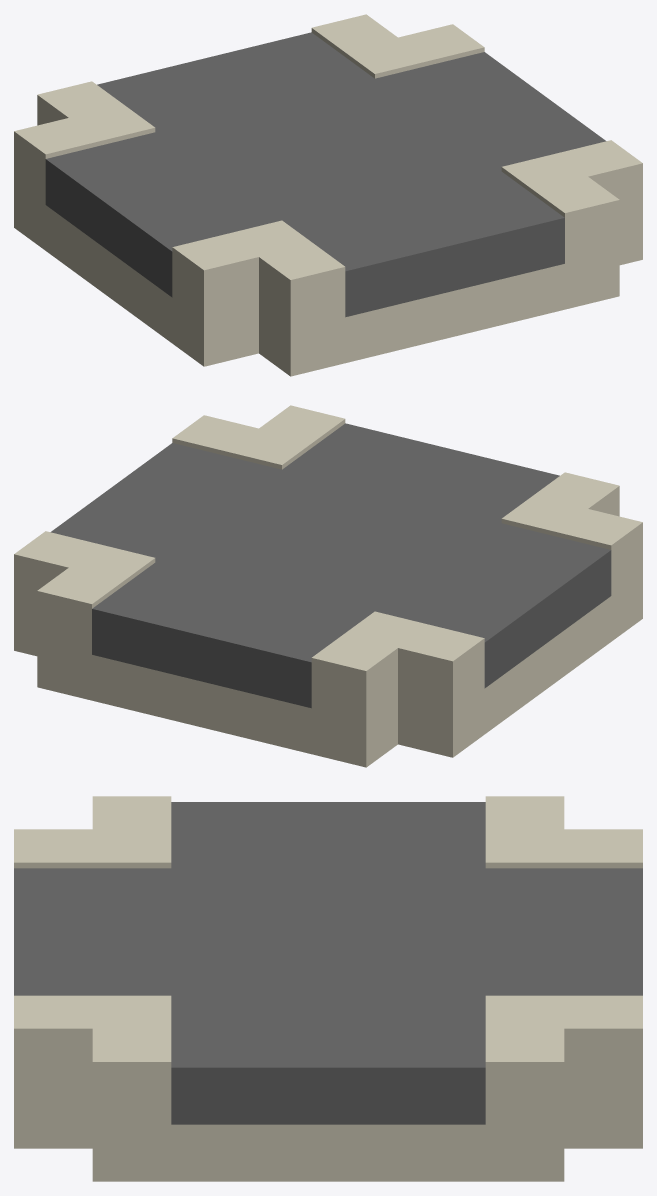
Rendered from road-four-way-sidewalk.obj.
The picture shows the model from 3 angles, top to bottom: view 1: azimuth 30°, elevation 25°; view 2: azimuth 150°, elevation 25°; view 3: azimuth 270°, elevation 25°; orthographic projection. The views are drawn at different scales.
Parts seen in each view (by area): view 1: Mesh1_Group1_Model.137; view 2: Mesh1_Group1_Model.137; view 3: Mesh1_Group1_Model.137.
Boxes of the visible parts, x1=… form: Mesh1_Group1_Model.137: x1=14, y1=14, x2=642, y2=376; Mesh1_Group1_Model.137: x1=14, y1=405, x2=642, y2=767; Mesh1_Group1_Model.137: x1=14, y1=796, x2=642, y2=1181.
Size of the model in its own units: 3 by 0.63 by 3.
